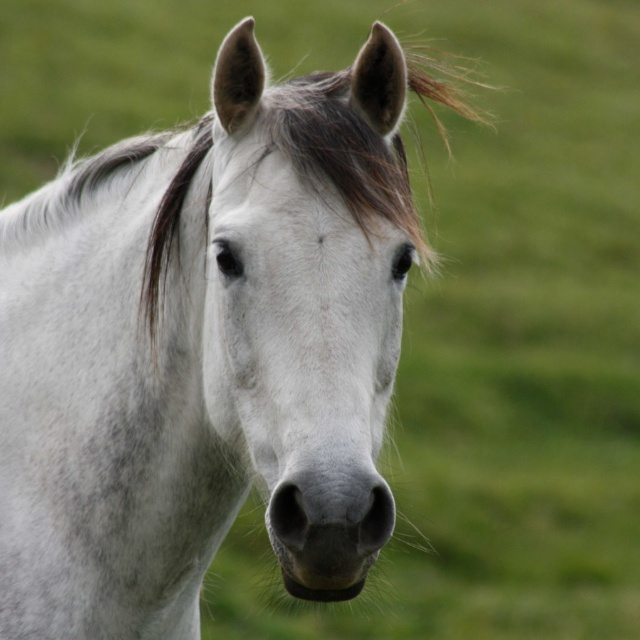Horse: (0, 2, 510, 639)
